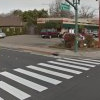crosswalk: (0, 57, 100, 100)
